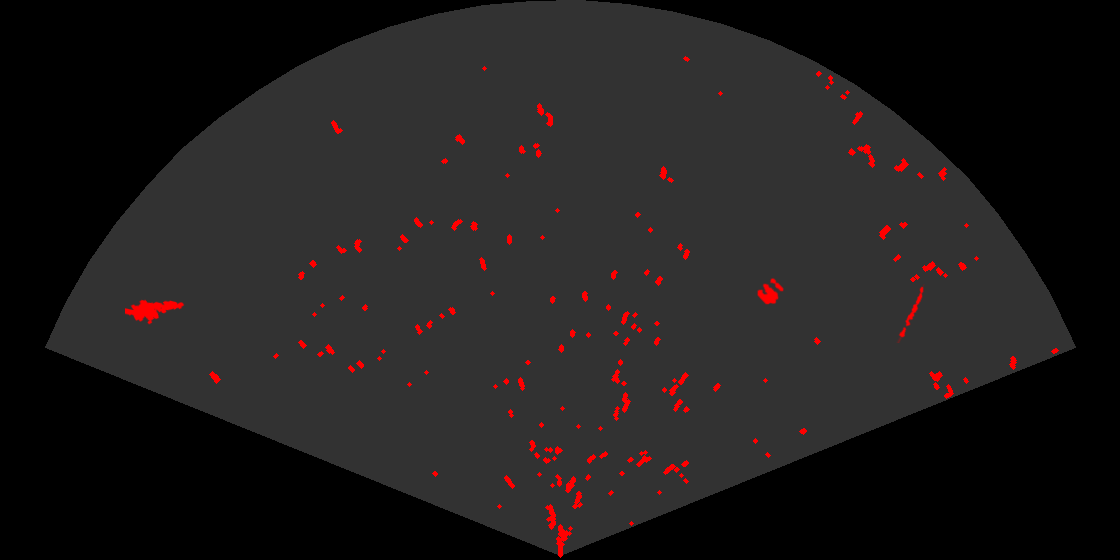ball: (756, 276, 785, 306)
chain: (895, 284, 926, 343)
frogman: (125, 298, 186, 326)
